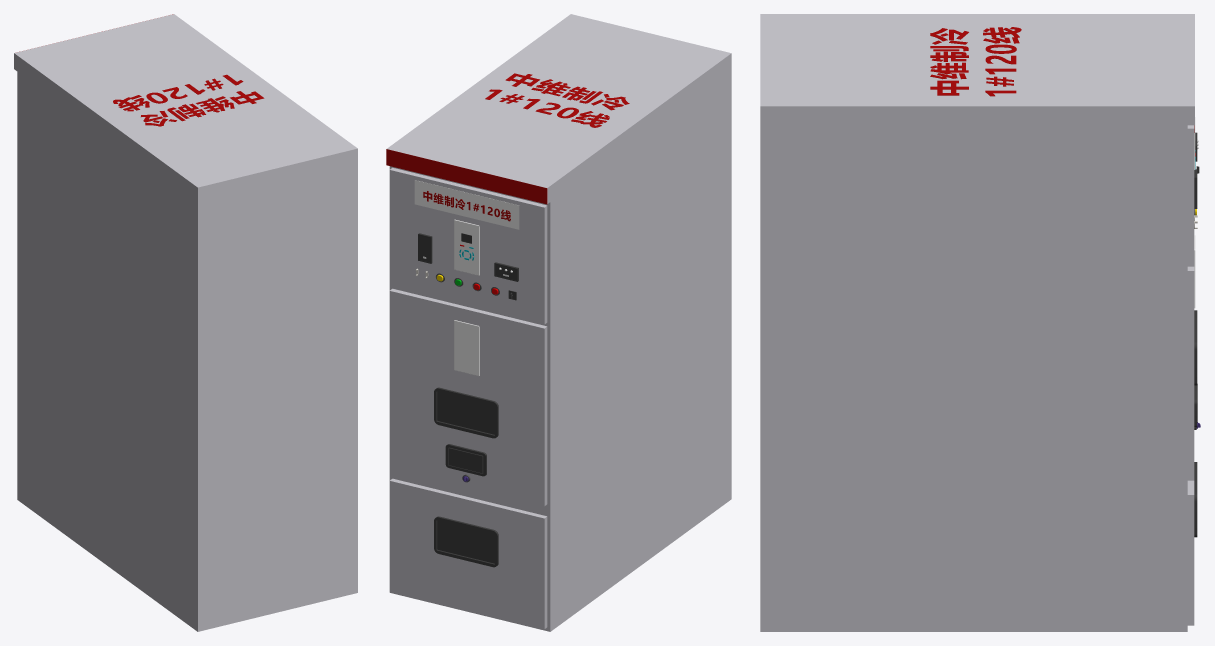
Rendered from 1-19-processed.gltf.
3 views of the same model, side by side, from view 1: azimuth 30°, elevation 25°; view 2: azimuth 150°, elevation 25°; view 3: azimuth 270°, elevation 25° (orthographic). The views are drawn at different scales.
Visible parts, largest first — view 1: Rectangle8608, Text302; view 2: Rectangle8608, Rectangle8611, Rectangle8610, Obj3d66_1138023_124_987, Obj3d66_1138023_124_986, Rectangle8609, Text302, Obj3d66_1138023_187_654, Obj3d66_1138023_187_655, Obj3d66_1138023_127_187, Text301; view 3: Rectangle8608, Rectangle8611, Text302.
Part boxes in pixels (left/top/right/bottom): Rectangle8608: left=14, top=14, right=357, bottom=631; Text302: left=113, top=74, right=264, bottom=126; Rectangle8608: left=387, top=14, right=731, bottom=631; Rectangle8611: left=389, top=167, right=547, bottom=629; Rectangle8610: left=386, top=149, right=547, bottom=204; Obj3d66_1138023_124_987: left=434, top=516, right=498, bottom=567; Obj3d66_1138023_124_986: left=434, top=387, right=498, bottom=438; Rectangle8609: left=414, top=180, right=519, bottom=229; Text302: left=485, top=73, right=629, bottom=127; Obj3d66_1138023_187_654: left=454, top=320, right=479, bottom=375; Obj3d66_1138023_187_655: left=454, top=219, right=479, bottom=275; Obj3d66_1138023_127_187: left=445, top=444, right=486, bottom=476; Text301: left=423, top=191, right=510, bottom=221; Rectangle8608: left=760, top=14, right=1194, bottom=631; Rectangle8611: left=1187, top=125, right=1194, bottom=625; Text302: left=930, top=27, right=1021, bottom=96.
Size of the model in its own units: 830 by 2201 by 1671.
